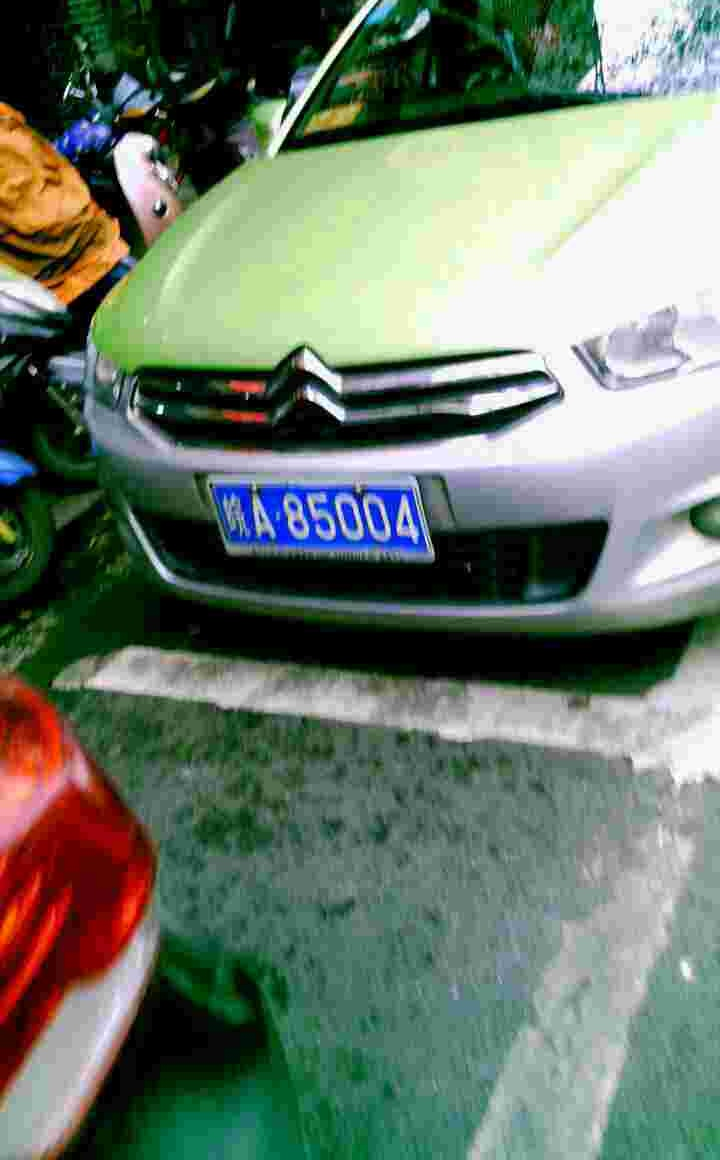car: (207, 478, 434, 556)
